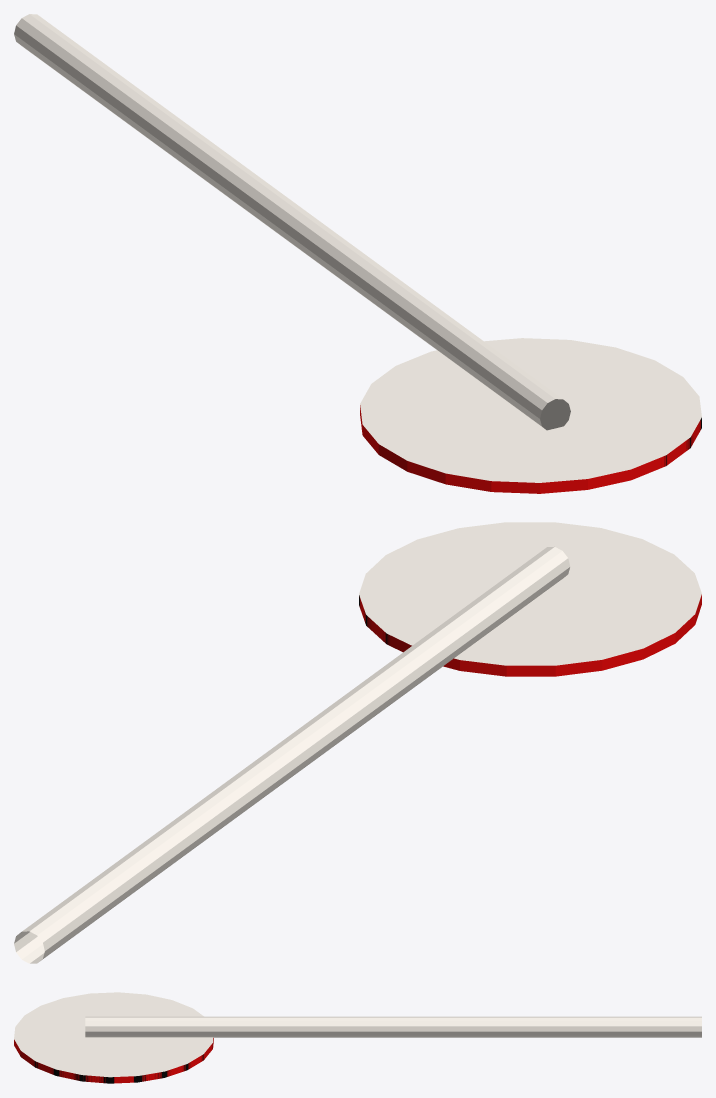
File: hyoushiki.glb
3 renders of one model, top to bottom at view 1: azimuth 30°, elevation 25°; view 2: azimuth 150°, elevation 25°; view 3: azimuth 270°, elevation 25°, orthographic. The views are drawn at different scales.
Visible parts, largest first — view 1: hyoshiki; view 2: hyoshiki; view 3: hyoshiki.
Part boxes in pixels (x1,y1,x2,y2): hyoshiki: (14,14,701,493); hyoshiki: (14,522,701,963); hyoshiki: (14,992,701,1083).
Size of the model in its own units: 2.51 by 0.3251 by 8.58.
Materials: 1 (1 with a texture image).
